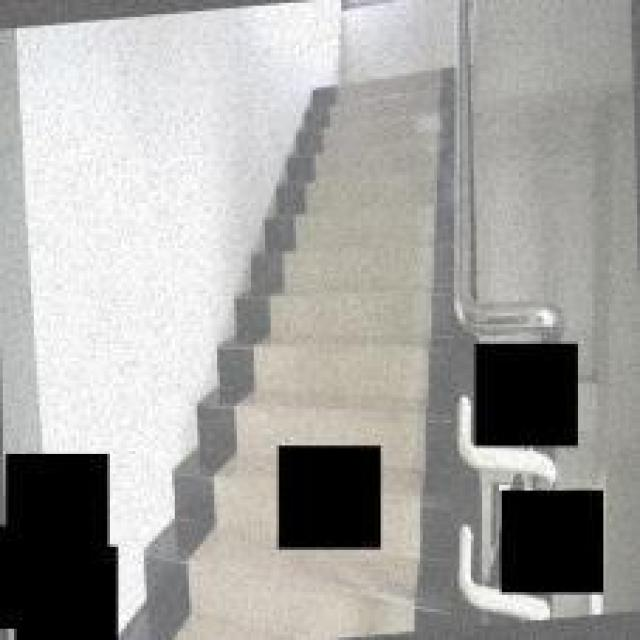upstair: (294, 151, 455, 388)
